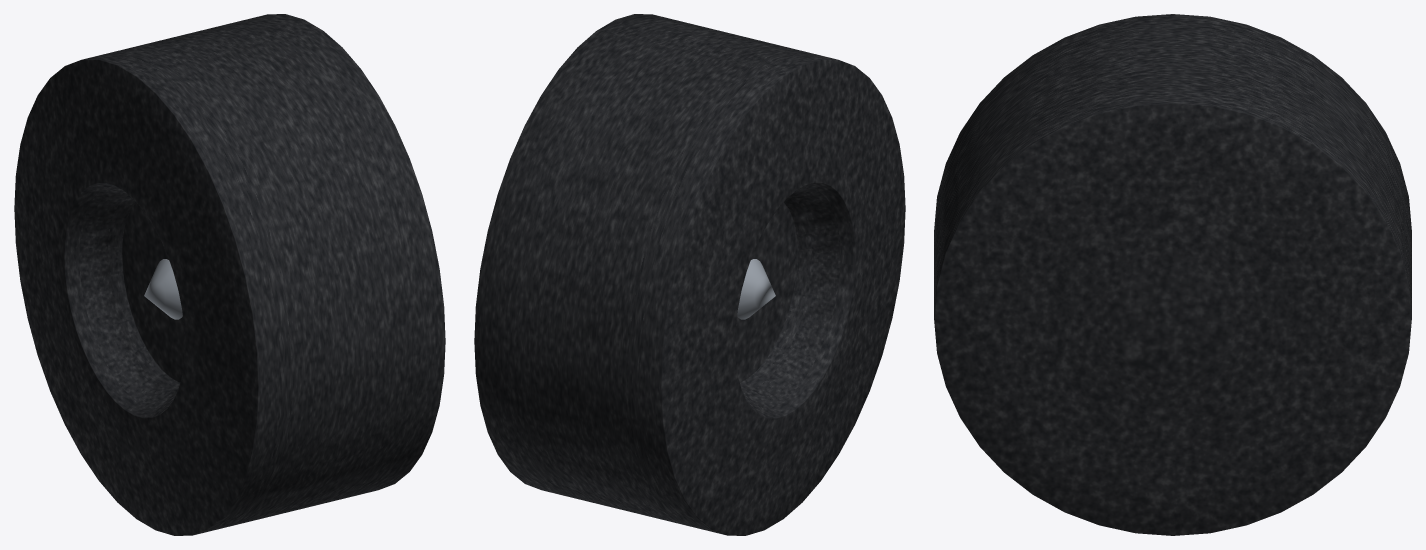
File: F1_94_wheel_front_geometry.glb
3 renders of one model, left to right at view 1: azimuth 30°, elevation 25°; view 2: azimuth 150°, elevation 25°; view 3: azimuth 270°, elevation 25°, orthographic. The views are drawn at different scales.
Parts seen in each view (by area): view 1: GEO_WHEEL_TIRE, GEO_WHEEL_HUB; view 2: GEO_WHEEL_TIRE, GEO_WHEEL_HUB; view 3: GEO_WHEEL_TIRE.
Boxes of the visible parts, x1,y1,x2,y2 form: GEO_WHEEL_TIRE: (14, 14, 445, 535); GEO_WHEEL_HUB: (144, 259, 182, 319); GEO_WHEEL_TIRE: (474, 14, 905, 535); GEO_WHEEL_HUB: (737, 259, 775, 319); GEO_WHEEL_TIRE: (934, 14, 1411, 535).
Size of the model in its own units: 0.3453 by 0.6973 by 0.6973.
2 materials, 1 textured.
